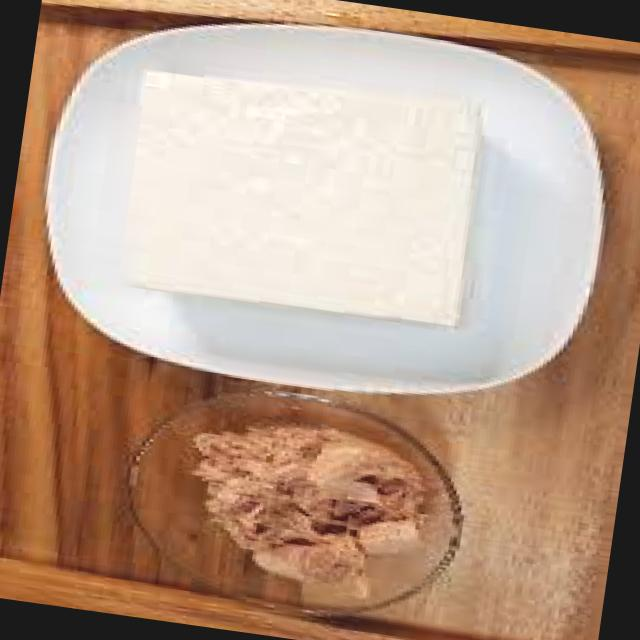tof: (104, 41, 506, 350)
